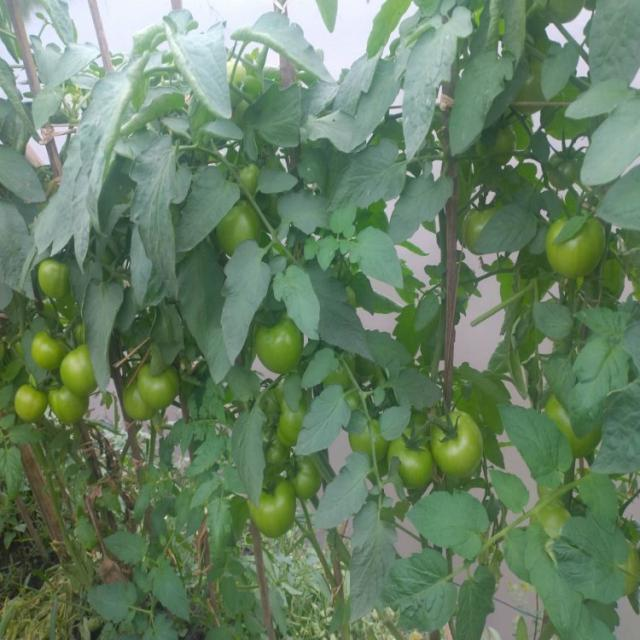tomato: (547, 203, 614, 284), (429, 391, 491, 478), (216, 202, 276, 274), (392, 413, 437, 494), (257, 310, 307, 373), (57, 338, 104, 397), (252, 476, 288, 541), (30, 326, 70, 384), (137, 370, 183, 420), (452, 194, 490, 245), (283, 461, 326, 506), (13, 386, 49, 429), (47, 386, 81, 431), (37, 267, 73, 309), (243, 166, 268, 205)
